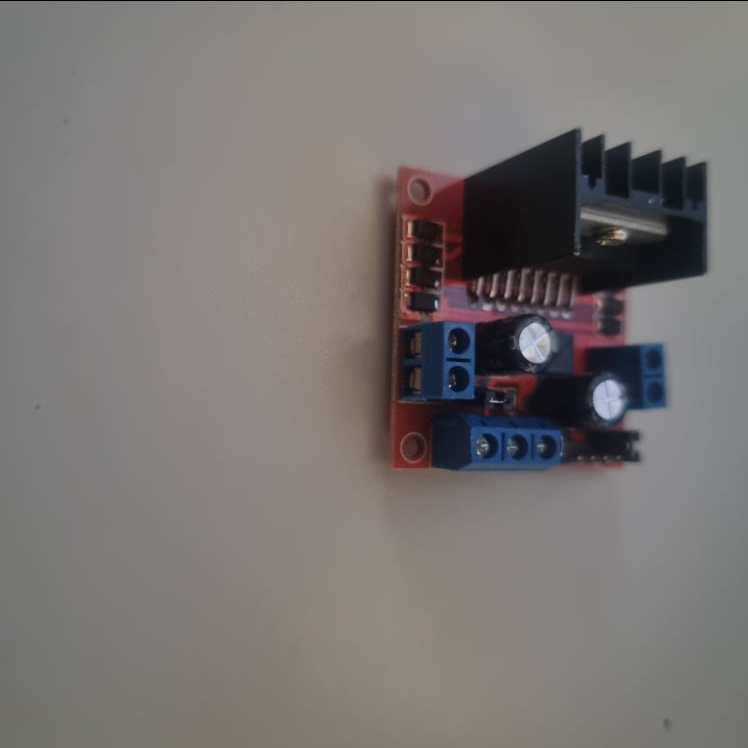MOTOR: (391, 125, 707, 475)
